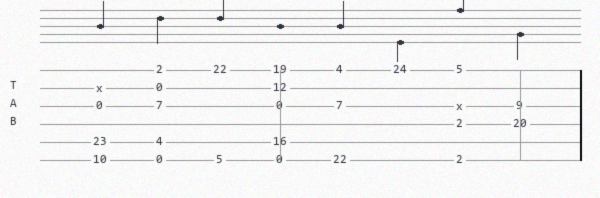0: (96, 100, 107, 112), (156, 82, 167, 94), (156, 154, 167, 166), (276, 154, 287, 166), (276, 100, 287, 112)
10: (93, 154, 111, 166)
12: (273, 82, 291, 94)
16: (273, 136, 291, 148)
19: (273, 64, 291, 76)
2: (156, 64, 167, 76), (456, 118, 467, 130), (456, 154, 467, 166)
20: (513, 118, 531, 130)
22: (213, 64, 231, 76), (333, 154, 351, 166)
23: (93, 136, 111, 148)
24: (393, 64, 411, 76)
4: (156, 136, 167, 148), (336, 64, 347, 76)
5: (216, 154, 227, 166), (456, 64, 467, 76)
7: (156, 100, 167, 112), (336, 100, 347, 112)
9: (516, 100, 527, 112)
x: (96, 83, 107, 93), (456, 101, 467, 111)
